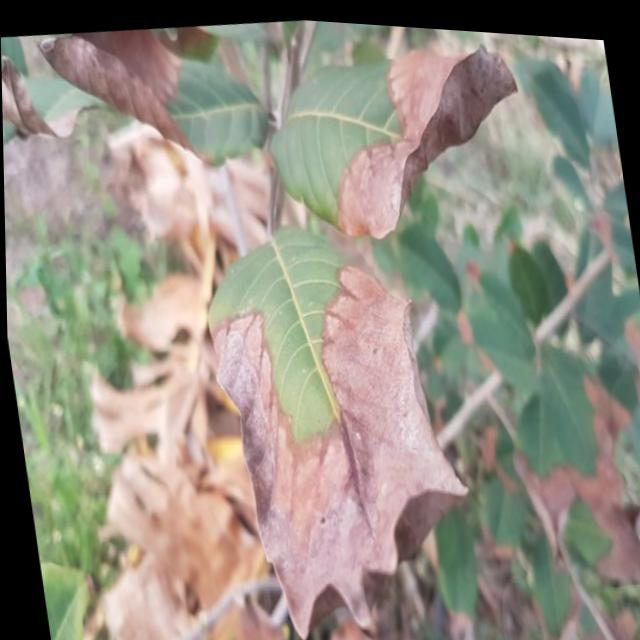Leaf Blight: (188, 206, 485, 640)
